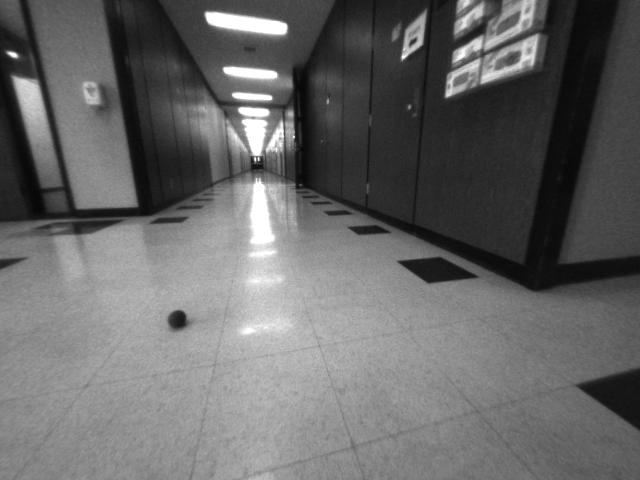dogtoy: (157, 305, 198, 333)
